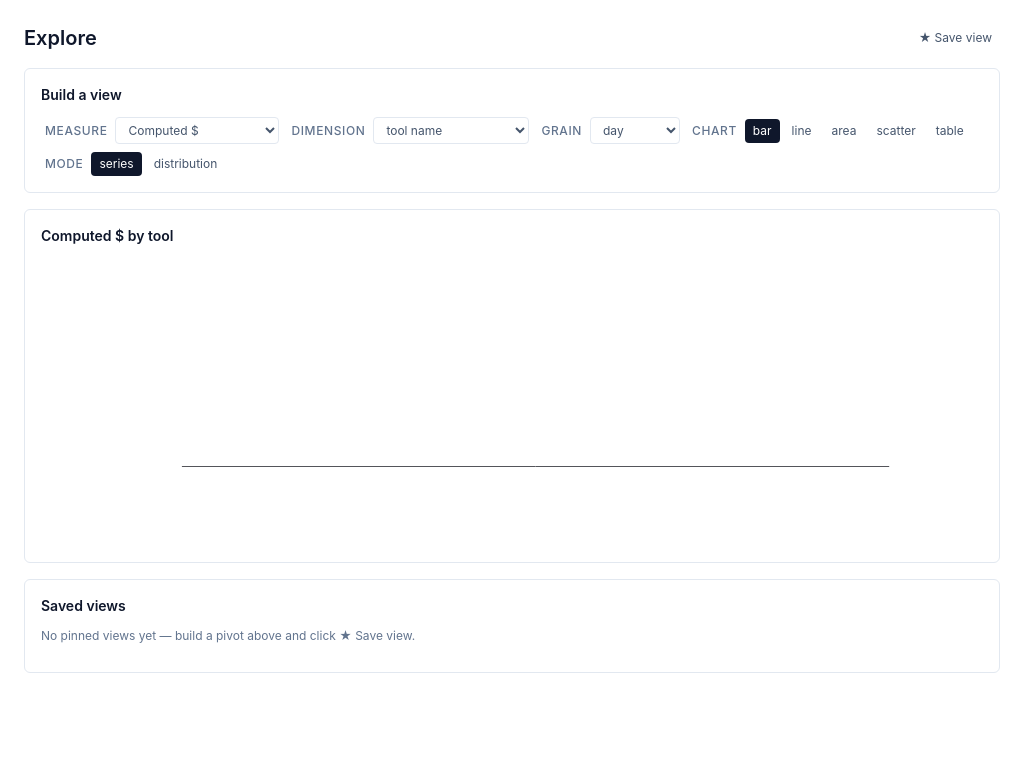
Explore page › renders distribution histogram + percentiles when the engine returns a distribution
Click the button with test id "xp-mode-distribution" at coordinates (186, 164), box 146,152 -> 225,176
(page scrolled)
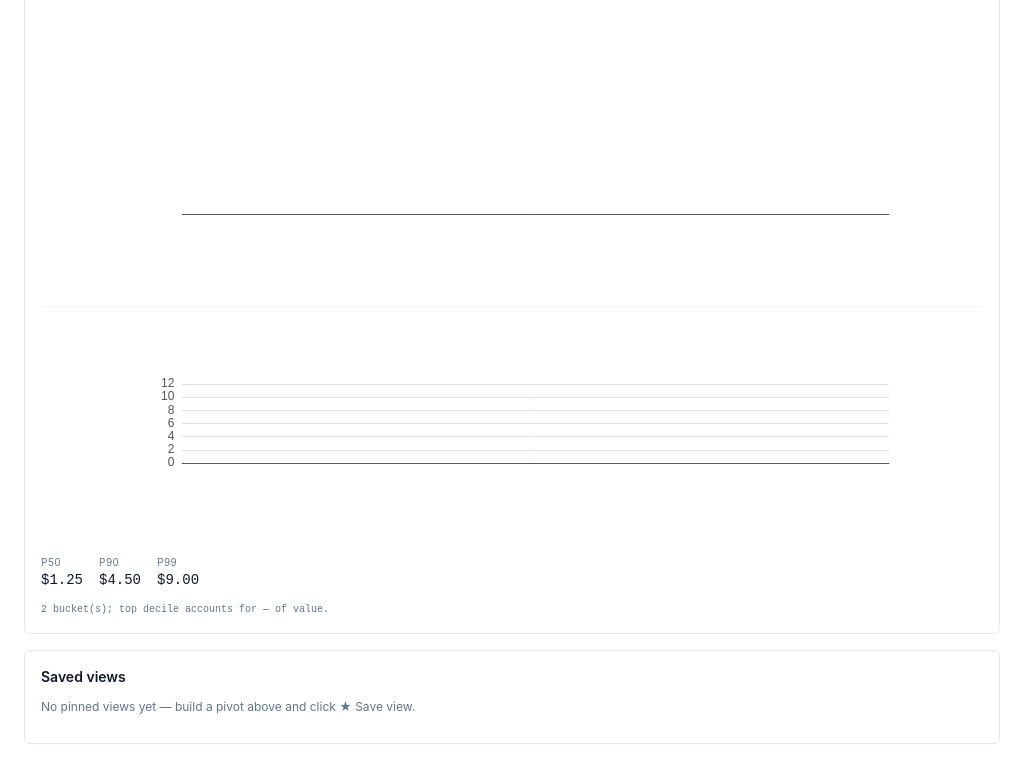
expect the element with test id "pivot-distribution" is shown: met, box 41,306 -> 983,617
expect the element with test id "pivot-distribution" shows "p50": met, box 41,556 -> 61,568
expect the element with test id "pivot-distribution" shows "p90": met, box 99,556 -> 119,568
